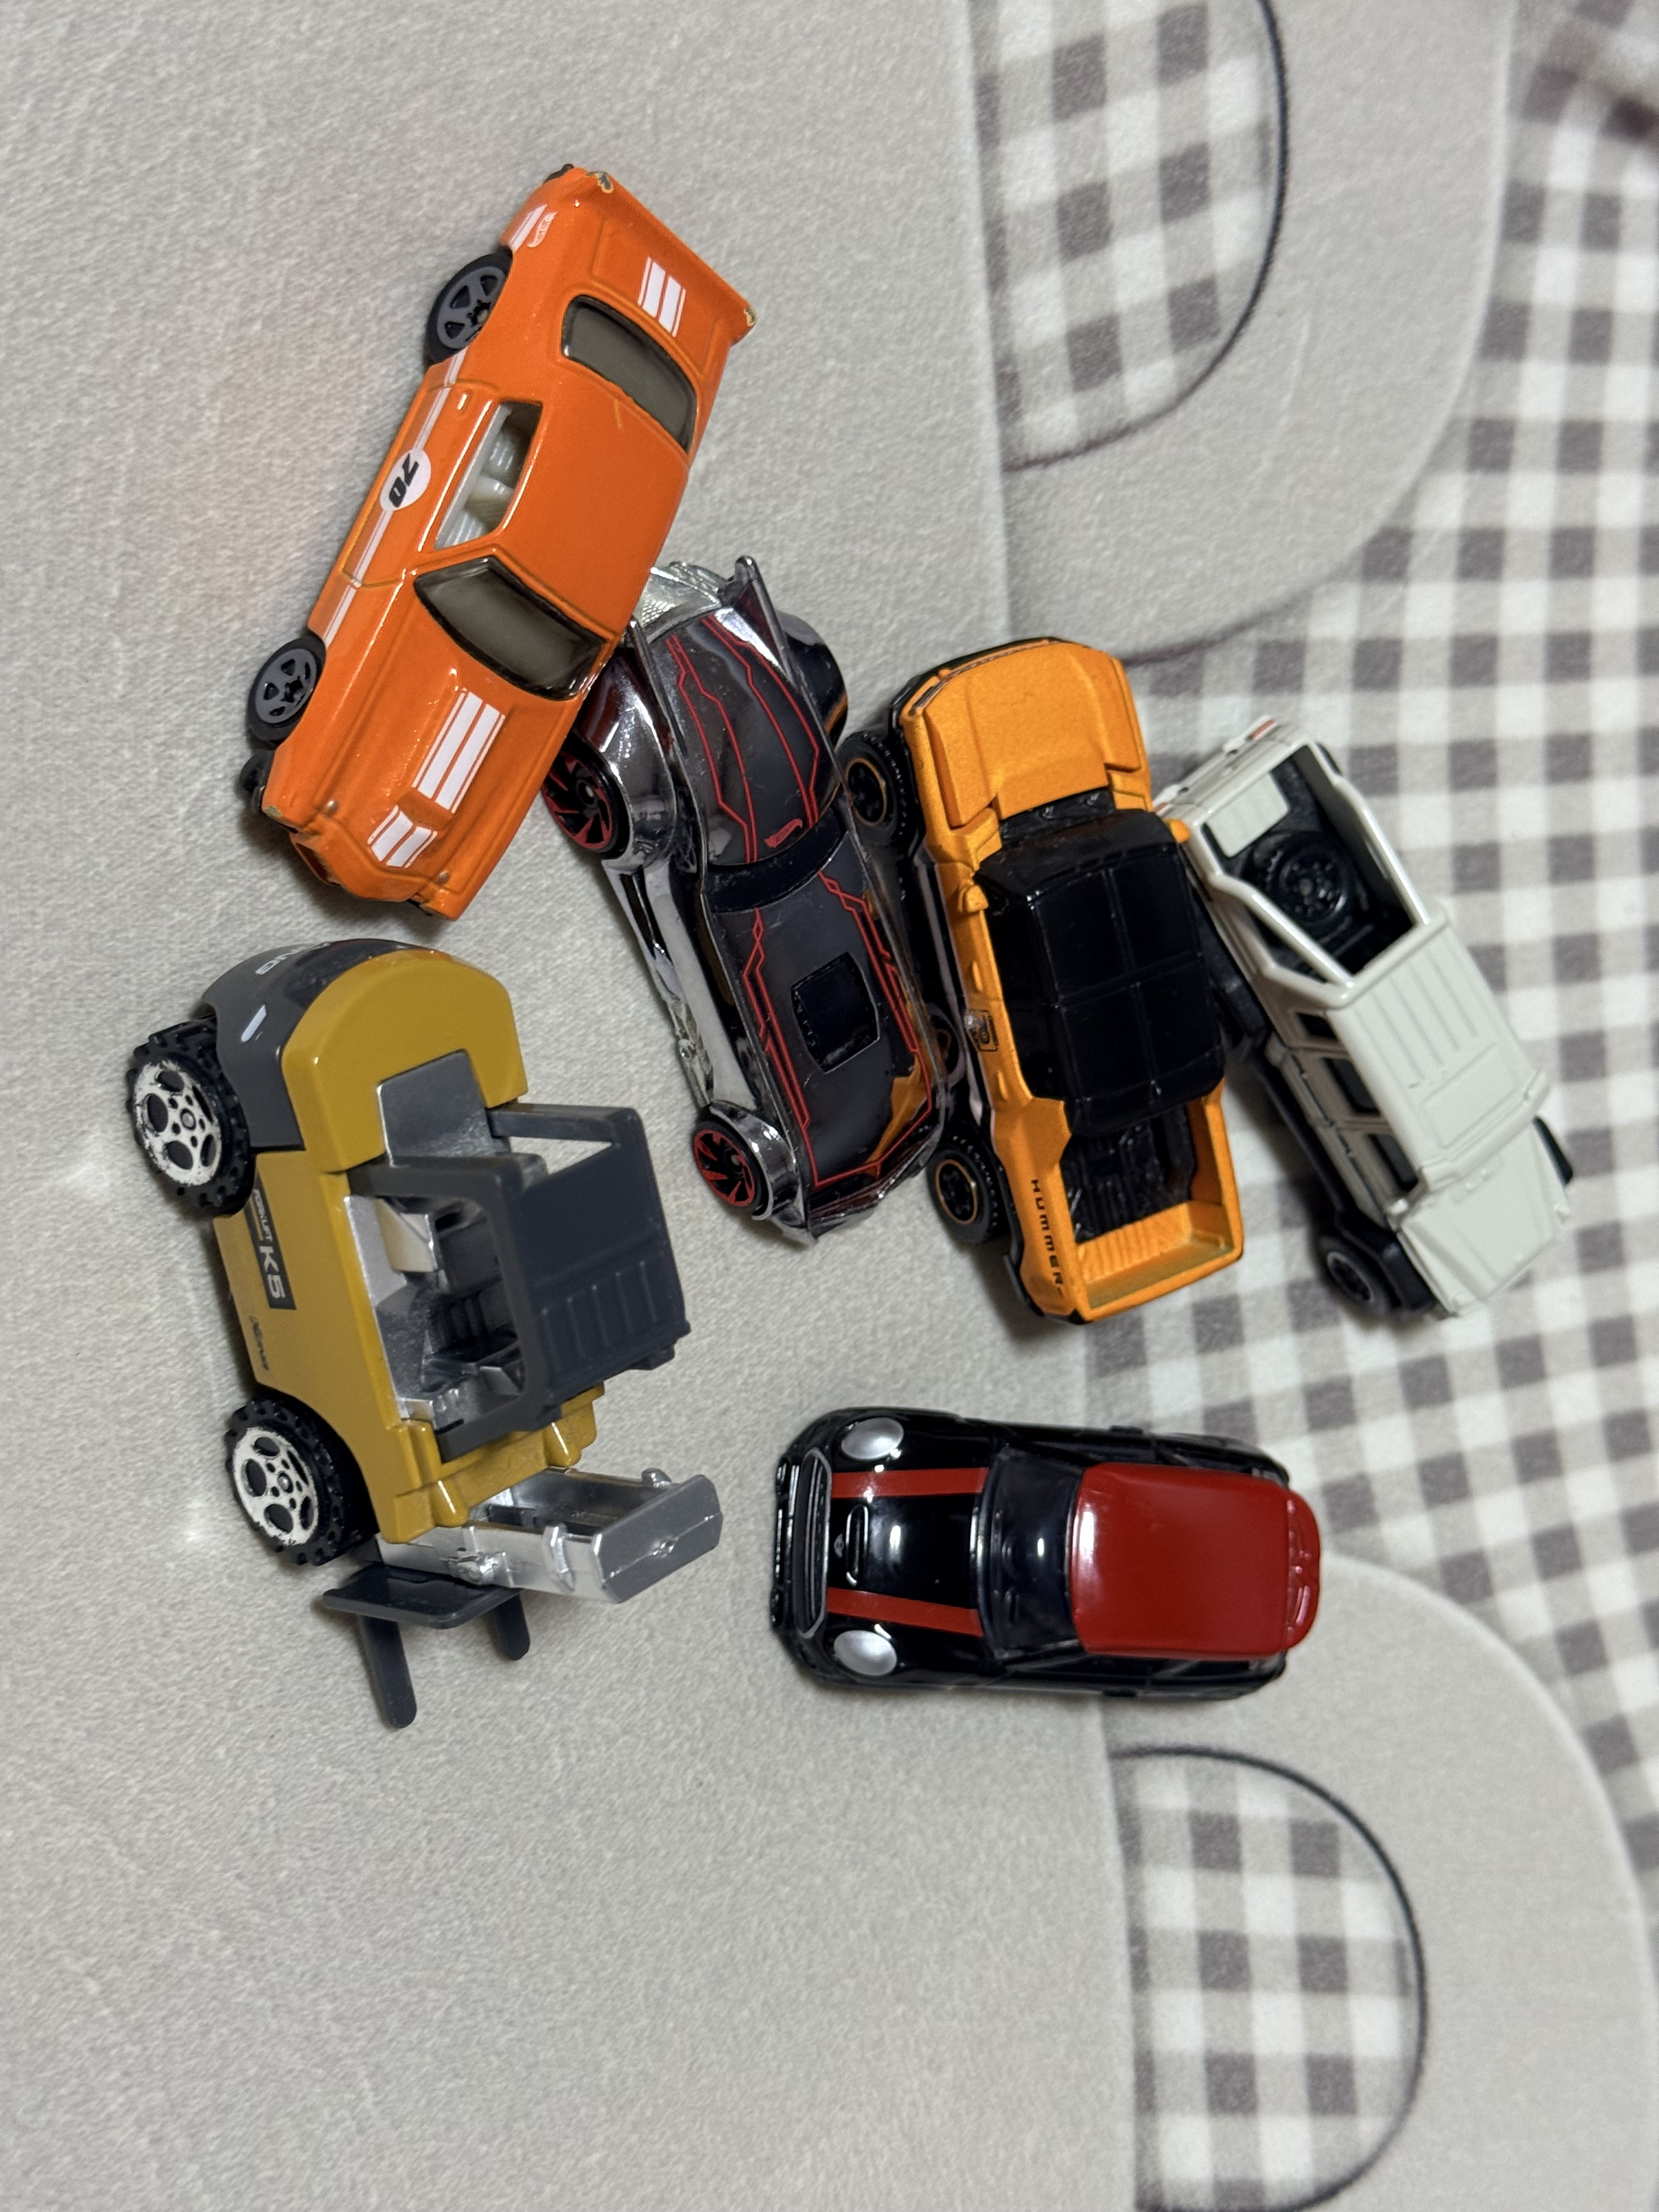camaro_rs: (237, 158, 753, 928)
dc_comics: (558, 545, 981, 1245)
forklift: (119, 932, 730, 1740)
gmc_hummer: (845, 631, 1244, 1334)
mercedes_benz: (1159, 711, 1581, 1338)
mini_cooper: (767, 1400, 1330, 1703)
